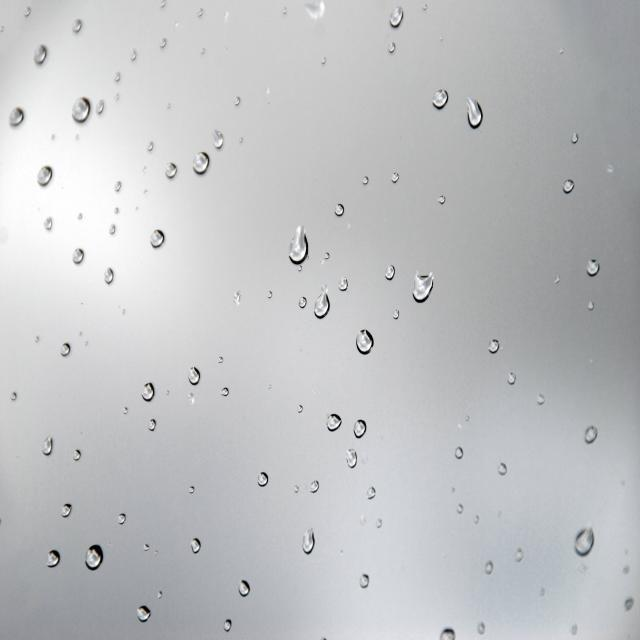raindrop: (401, 254, 442, 312), (570, 512, 608, 574), (76, 524, 112, 578), (282, 219, 316, 273), (63, 89, 98, 138), (183, 142, 215, 187), (462, 91, 492, 138), (132, 591, 164, 633), (298, 520, 323, 570), (316, 398, 342, 446), (582, 248, 608, 294), (308, 288, 340, 325), (348, 326, 380, 362), (3, 99, 30, 141), (179, 357, 209, 394), (43, 533, 66, 581), (246, 461, 274, 499), (144, 220, 174, 254), (230, 573, 260, 605), (351, 408, 372, 446), (182, 532, 210, 560), (32, 38, 55, 72), (430, 80, 450, 118), (32, 158, 58, 187), (138, 374, 159, 407), (390, 0, 412, 28)
